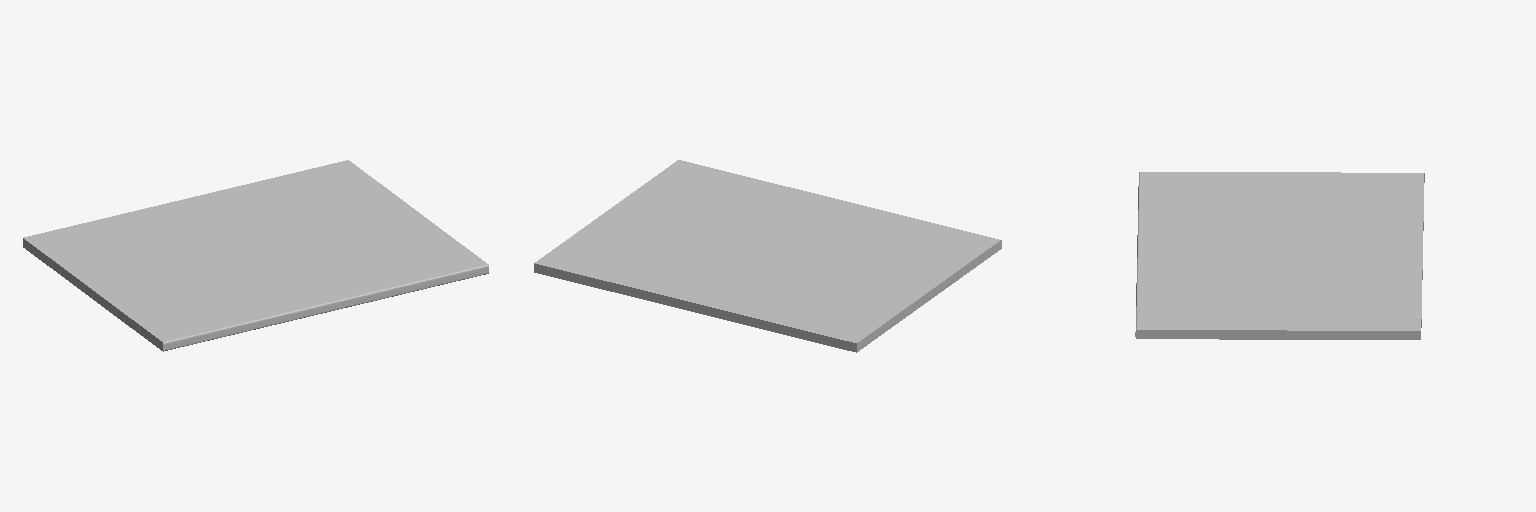
Rendered from Magazin N270619.obj.
3 views of the same model, side by side, from view 1: azimuth 30°, elevation 25°; view 2: azimuth 150°, elevation 25°; view 3: azimuth 270°, elevation 25° (orthographic).
Visible parts, largest first — view 1: 20_Casa_De_Abitare_08; view 2: 20_Casa_De_Abitare_08; view 3: 20_Casa_De_Abitare_08.
Part boxes in pixels (bbox=[...]): 20_Casa_De_Abitare_08: bbox=[23, 160, 488, 351]; 20_Casa_De_Abitare_08: bbox=[534, 160, 1001, 352]; 20_Casa_De_Abitare_08: bbox=[1135, 172, 1424, 339].
Bounding box in the file's own units: 277 × 7.5 × 212.